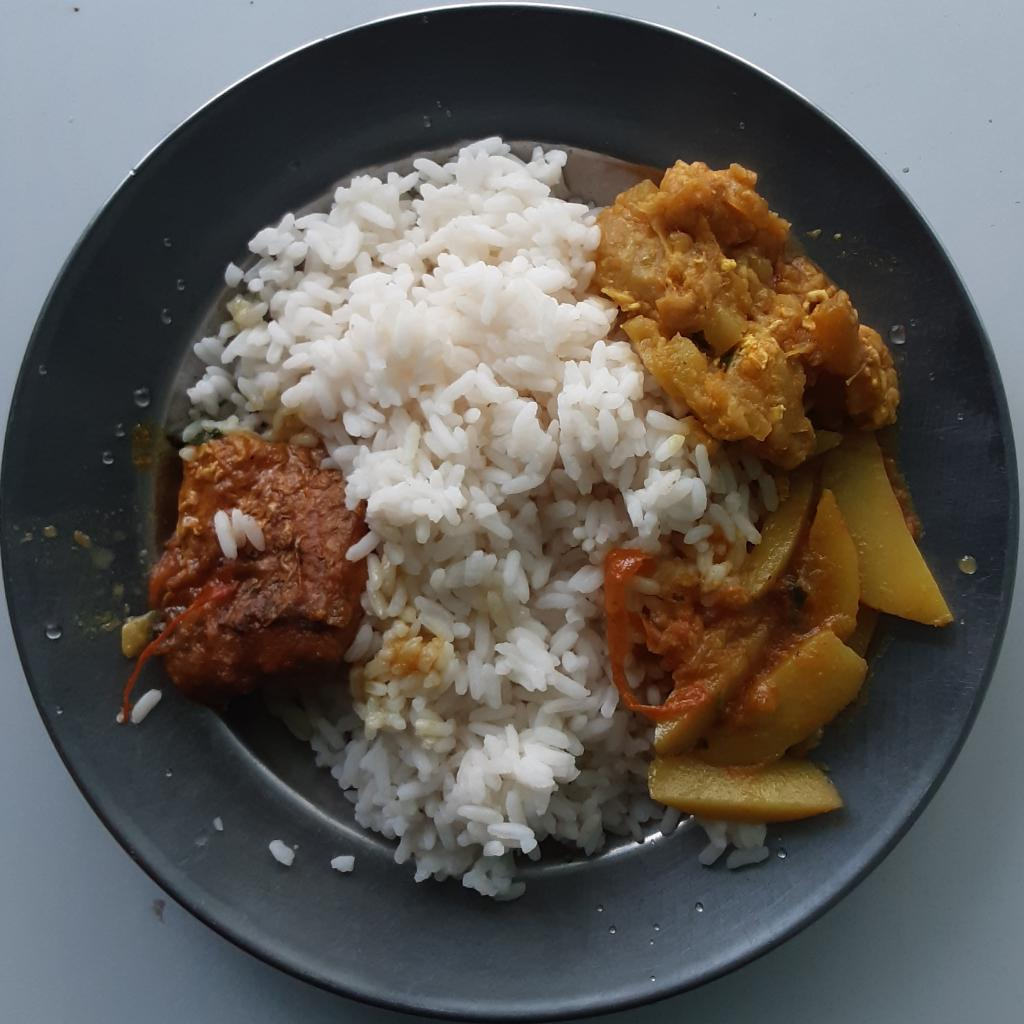fish: (115, 432, 364, 728)
lau: (587, 153, 897, 476)
potato: (634, 427, 951, 827)
rice: (177, 139, 802, 904)
